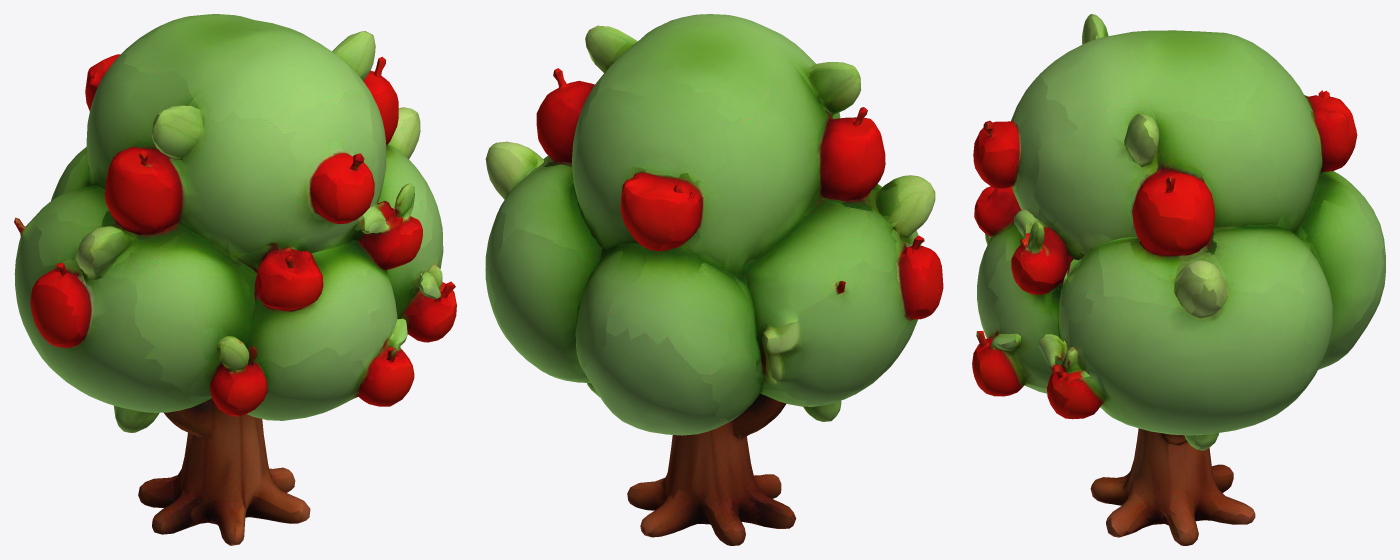
Rendered from fruit_tree_apple.glb.
3 renders of one model, left to right at view 1: azimuth 30°, elevation 25°; view 2: azimuth 150°, elevation 25°; view 3: azimuth 270°, elevation 25°, orthographic.
Parts seen in each view (by area): view 1: fruit_tree_apple_s71; view 2: fruit_tree_apple_s71; view 3: fruit_tree_apple_s71.
Boxes of the visible parts, x1=… form: fruit_tree_apple_s71: x1=14, y1=14, x2=456, y2=545; fruit_tree_apple_s71: x1=485, y1=14, x2=943, y2=545; fruit_tree_apple_s71: x1=972, y1=14, x2=1385, y2=545.
Size of the model in its own units: 0.909 by 1 by 0.7871.
1 material, 1 textured.
